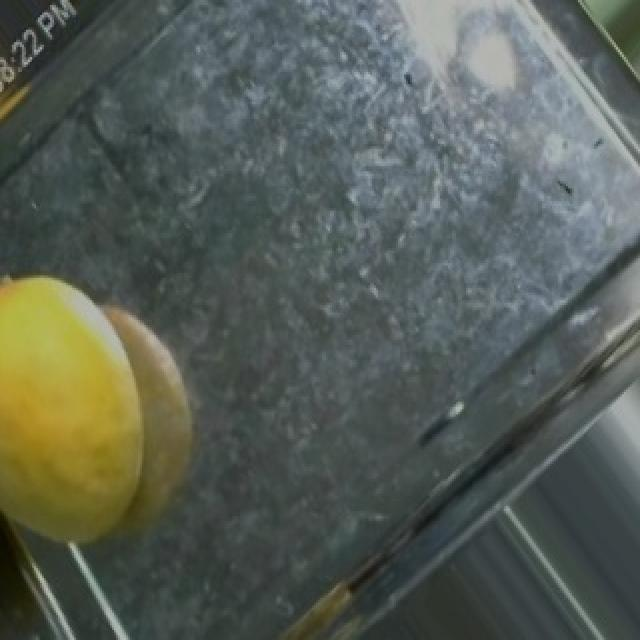fruit: (0, 236, 270, 600)
